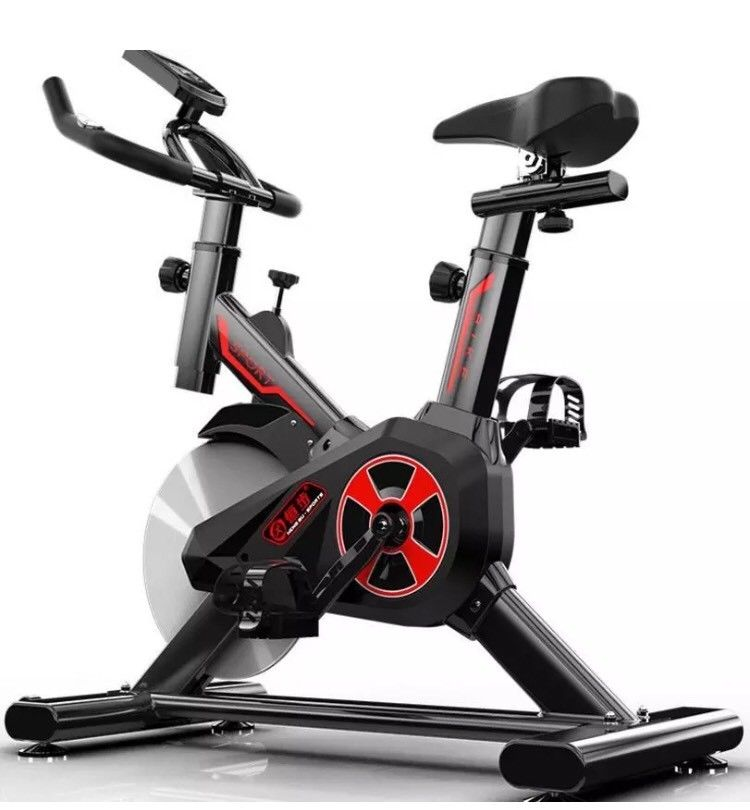gym_bike: (22, 39, 730, 784)
